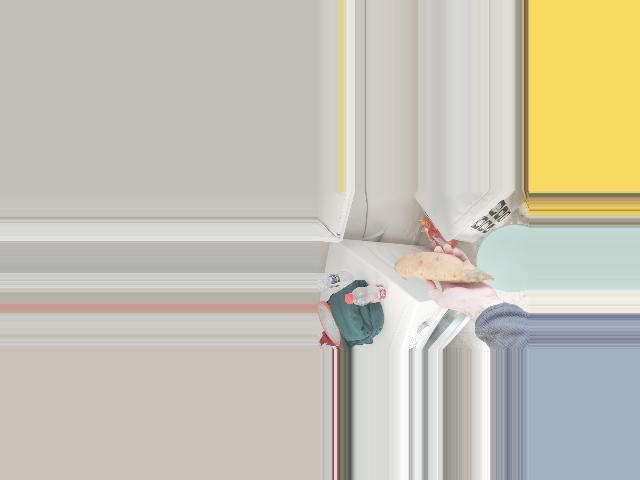sweet_potato: (396, 249, 479, 282)
